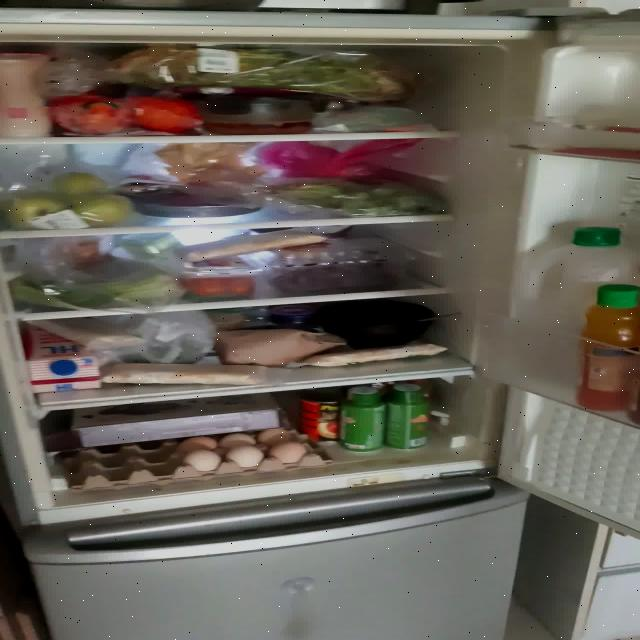apple: (3, 172, 133, 231)
egg: (66, 428, 334, 490)
leafy_greens: (113, 46, 415, 100), (10, 273, 184, 309), (274, 182, 450, 216)
orange: (54, 95, 202, 133)
tempeh: (180, 229, 328, 262), (304, 343, 448, 367), (99, 364, 268, 384)
unknown_bag: (258, 138, 424, 176), (95, 311, 216, 363)
